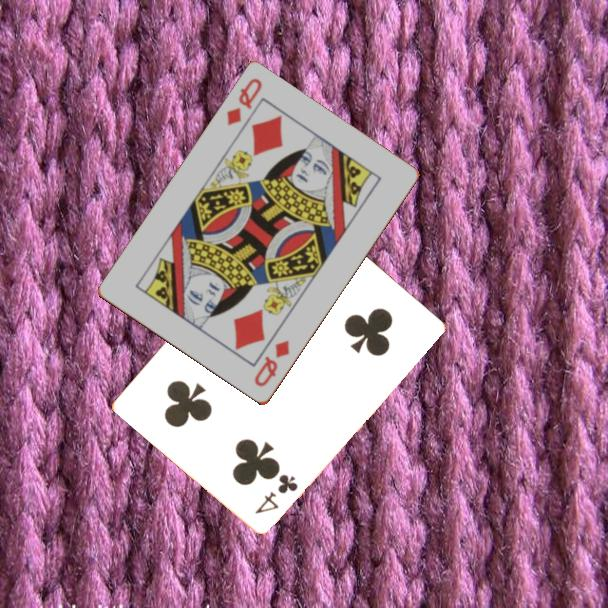c04: (251, 470, 301, 517)
d12: (223, 75, 265, 129), (251, 337, 293, 390)
